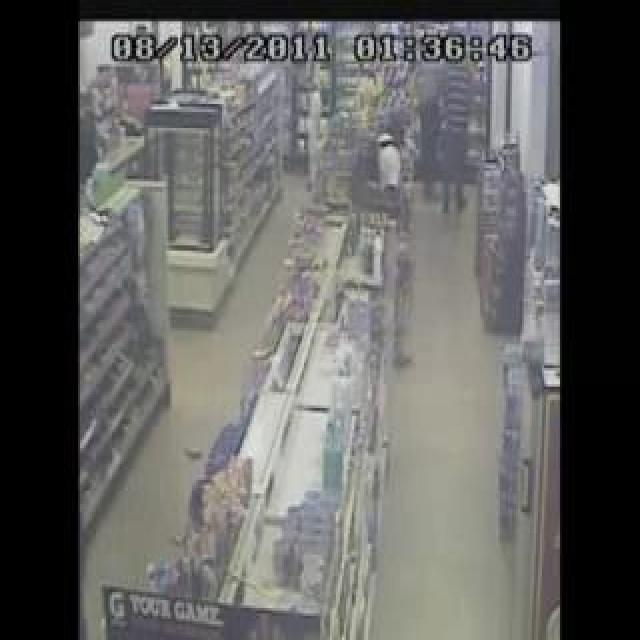thief: (424, 58, 470, 169)
